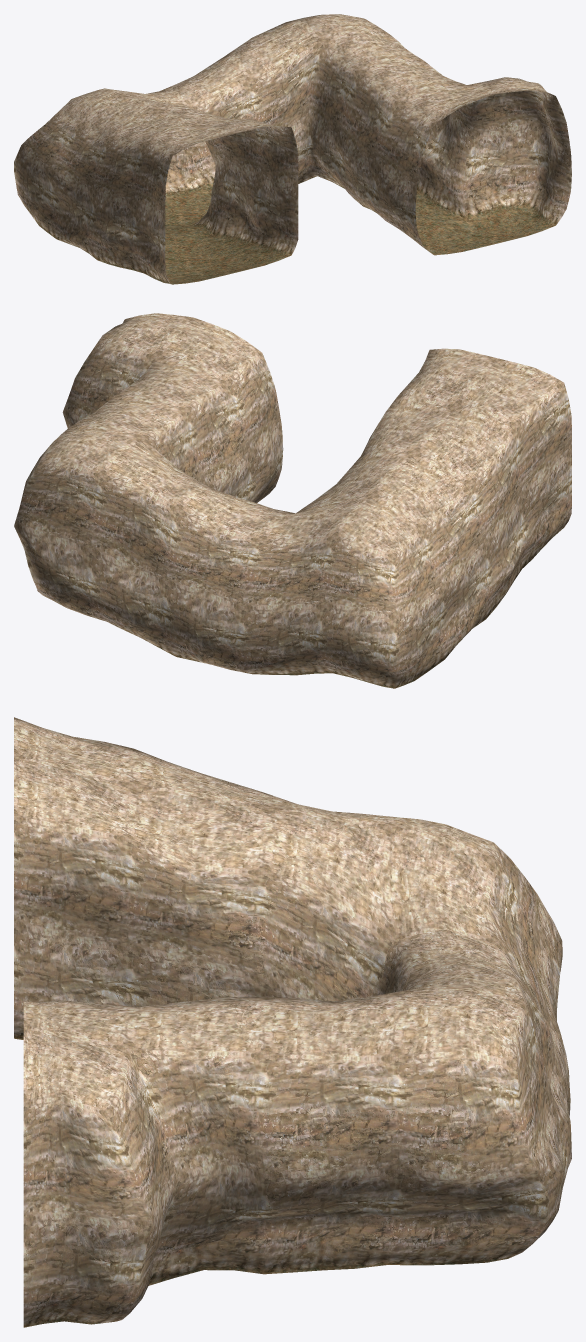
The model's file is thm_all_cave_flatland_s03_r12_mesh_r12.fbx.
3 renders of one model, top to bottom at view 1: azimuth 30°, elevation 25°; view 2: azimuth 150°, elevation 25°; view 3: azimuth 270°, elevation 25°, orthographic. The views are drawn at different scales.
Parts seen in each view (by area): view 1: mesh_node; view 2: mesh_node; view 3: mesh_node.
Part boxes in pixels (x1,y1,x2,y2): mesh_node: (14,14,571,284); mesh_node: (14,313,571,688); mesh_node: (14,717,571,1327).
Bounding box in the file's own units: 50.31 × 22.47 × 33.73.
